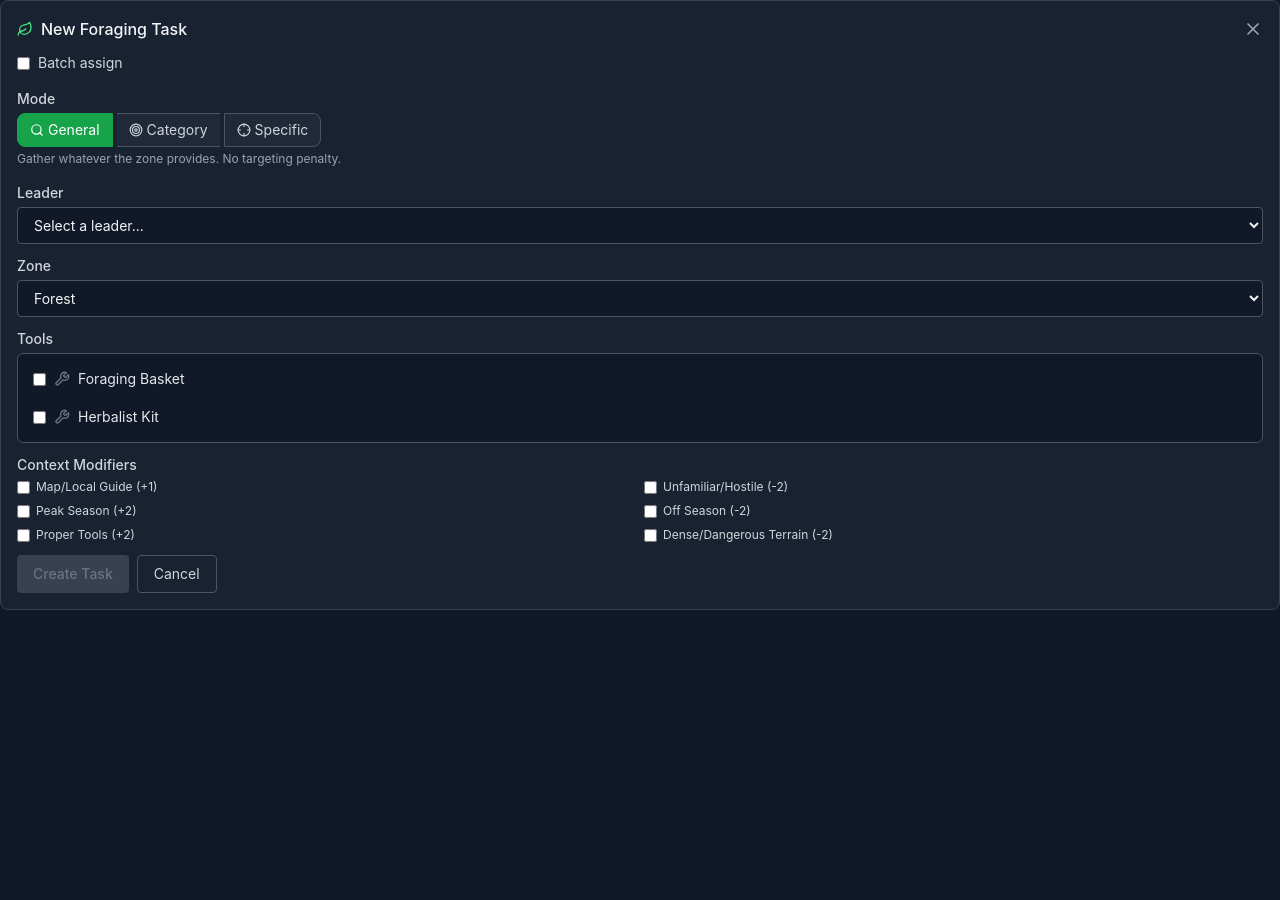
ForagingTaskForm › mode switching › shows category dropdown when category mode selected
This screenshot has width=1280, height=900.
Click the button with test id "mode-category" at (168, 130), box x1=117 y1=113 x2=220 y2=147
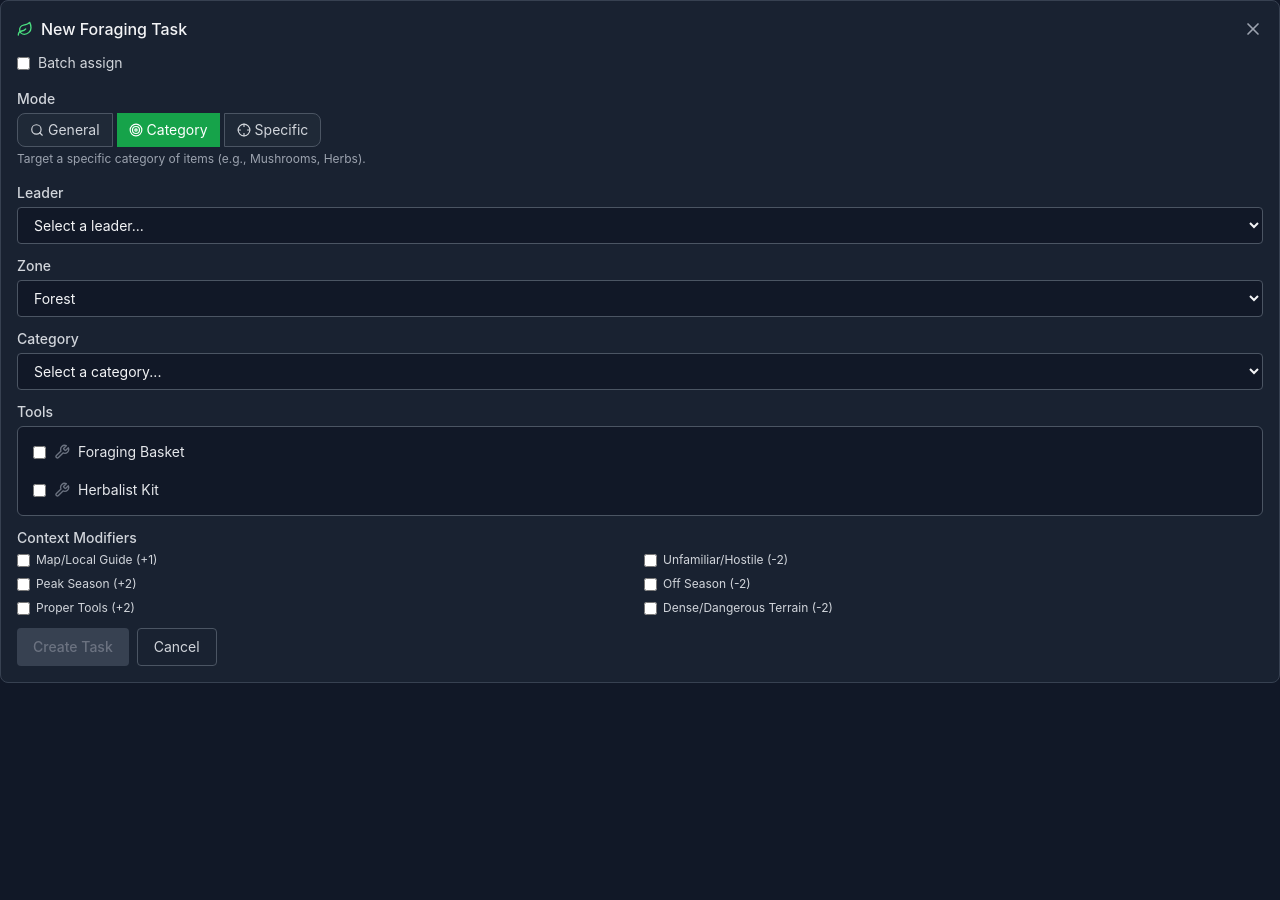
Expected: the dropdown with test id "category-select" is shown, x1=17 y1=353 x2=1263 y2=390
Expected: the text "Target a specific category" is shown, x1=17 y1=151 x2=366 y2=166
